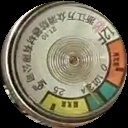green: (86, 81, 122, 113)
needle: (82, 79, 102, 107)
red: (106, 37, 128, 91)
yellow: (39, 91, 91, 119)
